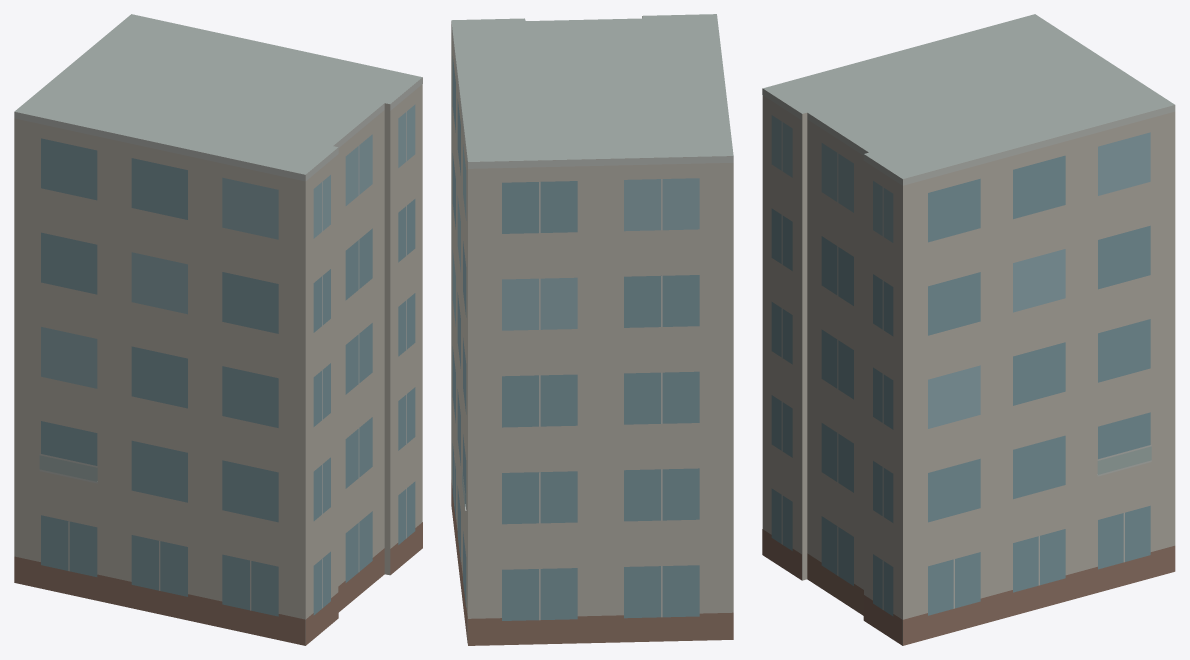
File: survey-upis-32722893.glb
3 views of the same model, side by side, from view 1: azimuth 30°, elevation 25°; view 2: azimuth 150°, elevation 25°; view 3: azimuth 270°, elevation 25° (orthographic). The views are drawn at different scales.
Visible parts, largest first — view 1: survey-upis-32722893.tmp; view 2: survey-upis-32722893.tmp; view 3: survey-upis-32722893.tmp.
Boxes of the visible parts, box(x1,y1,x2,y2) form: survey-upis-32722893.tmp: box(14, 14, 422, 645); survey-upis-32722893.tmp: box(451, 14, 733, 645); survey-upis-32722893.tmp: box(762, 14, 1175, 645).
Size of the model in its own units: 13.03 by 17.15 by 13.75.
